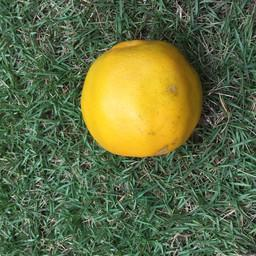Good_orange: (78, 35, 203, 159)
